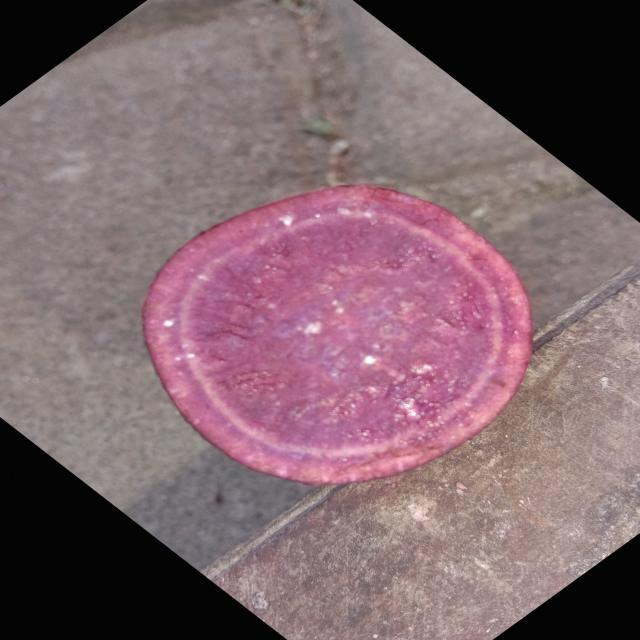Healthy Sweet Potato: (143, 185, 532, 485)
